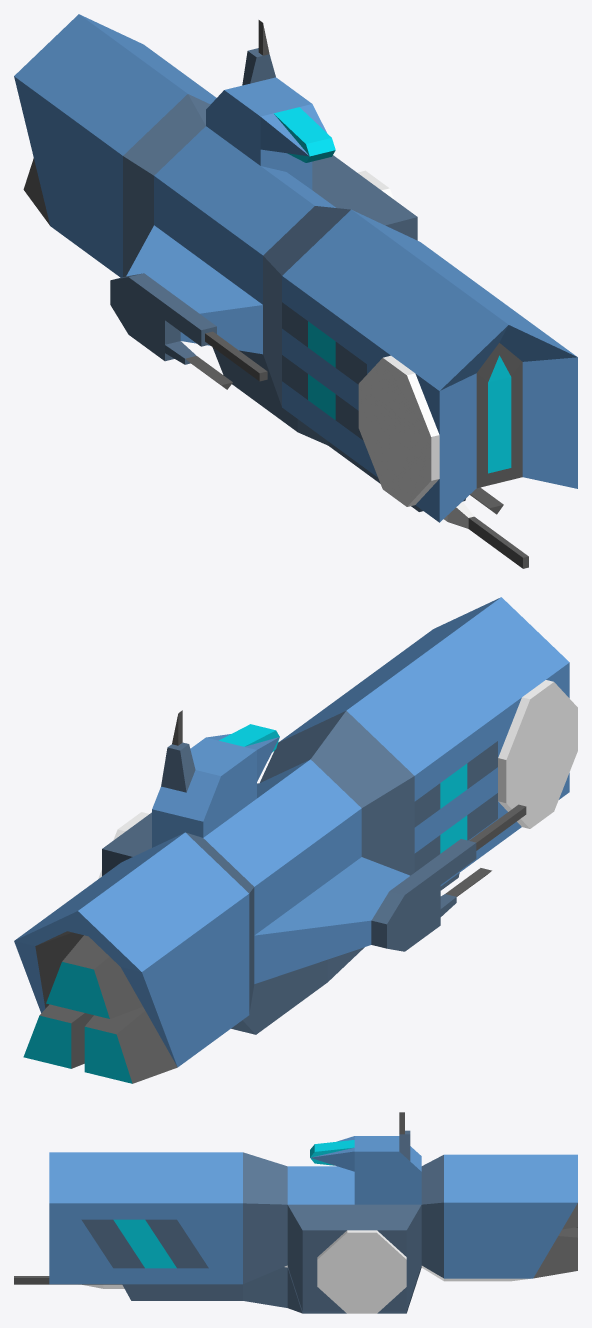
The model's file is block_cruiser_3.fbx.
3 renders of one model, top to bottom at view 1: azimuth 30°, elevation 25°; view 2: azimuth 150°, elevation 25°; view 3: azimuth 270°, elevation 25°, orthographic. The views are drawn at different scales.
Visible parts, largest first — view 1: block_cruiser_light; view 2: block_cruiser_light; view 3: block_cruiser_light.
Boxes of the visible parts, x1,y1,x2,y2 form: block_cruiser_light: (14,14,577,568); block_cruiser_light: (14,597,577,1083); block_cruiser_light: (14,1112,577,1313).
Bounding box in the file's own units: 31.5 × 37.5 × 94.69.
Materials: 1 (1 with a texture image).
